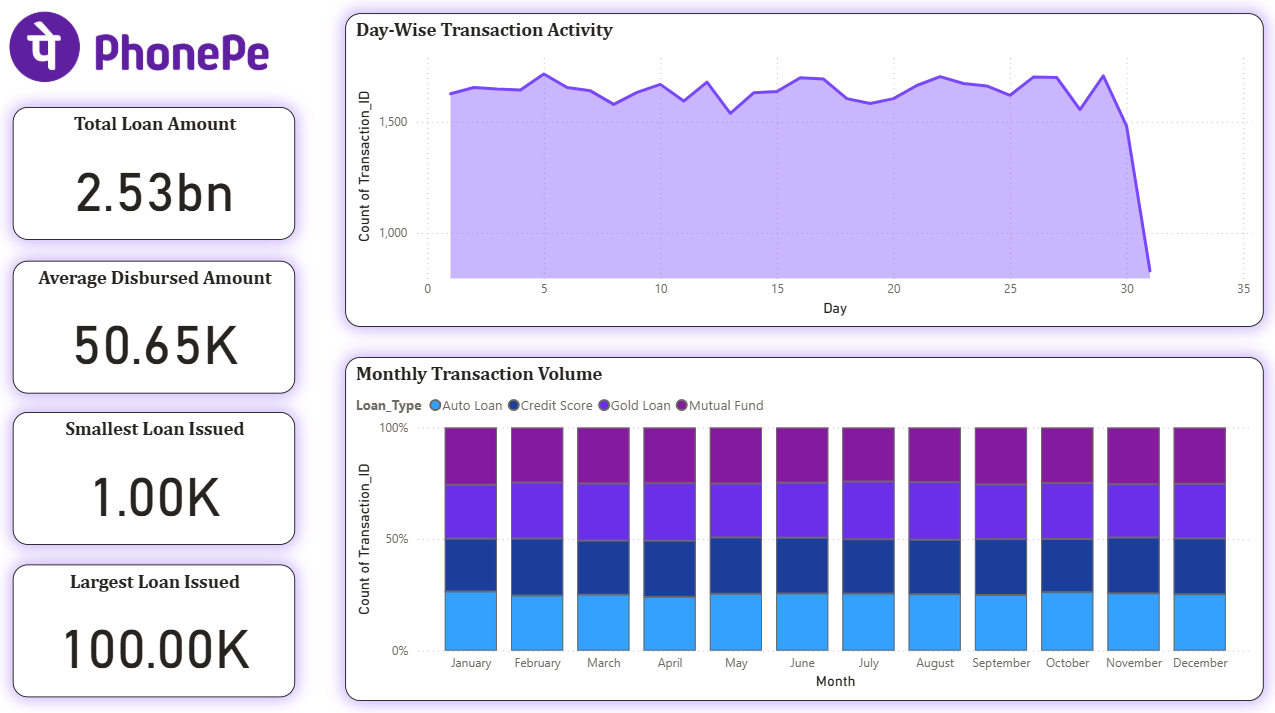

The page's visual inventory and layout, read from the dashboard file:
{"tool":"powerbi","page":{"name":"Page 1","canvas":[1280,720],"ordinal":0},"visuals":[{"type":"image","box":[0,0,280,100.3],"z":0},{"type":"card","title":"Total Loan Amount","fields":{"Values":["Sum(Loans.Loan_Amount)"]},"box":[13.7,109.8,282.7,133.1],"z":1000},{"type":"card","title":"Average Disbursed Amount","fields":{"Values":["Avg(Loans.Loan_Amount)"]},"box":[13.7,263.5,282.7,133.1],"z":2000},{"type":"card","title":"Smallest Loan Issued","fields":{"Values":["Min(Loans.Loan_Amount)"]},"box":[13.7,414.4,282.7,133.1],"z":3000},{"type":"card","title":"Largest Loan Issued","fields":{"Values":["Max(Loans.Loan_Amount)"]},"box":[13.7,568.1,282.7,133.1],"z":4000},{"type":"lineChart","title":"Day-Wise Transaction Activity","fields":{"Category":["Loans.Date.Variation.Date Hierarchy.Day"],"Y":["CountNonNull(Loans.Transaction_ID)"]},"box":[346.2,16.2,918.8,313.8],"z":5000},{"type":"hundredPercentStackedColumnChart","title":"Monthly Transaction Volume","fields":{"Category":["Loans.Date.Variation.Date Hierarchy.Month","Loans.Date.Variation.Date Hierarchy.Day"],"Y":["CountNonNull(Loans.Transaction_ID)"],"Series":["Loans.Loan_Type"]},"box":[346.2,360,918.8,343.8],"z":6000}]}

Visuals, with their boxes in screenshot pixels (x1, y1, x2, y2), scaled from the page's 1280x720 canvas onto the 1275x713 screenshot:
image: BBox(0, 0, 279, 99)
"Total Loan Amount" card: BBox(14, 109, 295, 241)
"Average Disbursed Amount" card: BBox(14, 261, 295, 393)
"Smallest Loan Issued" card: BBox(14, 410, 295, 542)
"Largest Loan Issued" card: BBox(14, 563, 295, 694)
"Day-Wise Transaction Activity" lineChart: BBox(345, 16, 1260, 327)
"Monthly Transaction Volume" hundredPercentStackedColumnChart: BBox(345, 356, 1260, 697)
